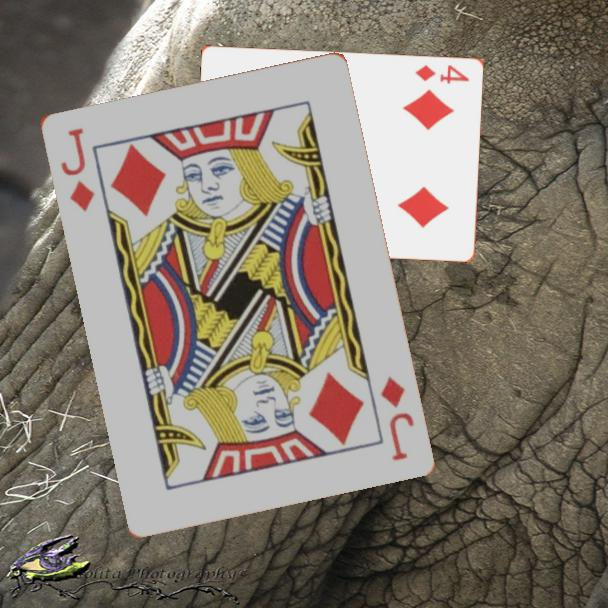d04: (412, 61, 472, 87)
d11: (376, 372, 417, 463), (56, 124, 97, 214)
